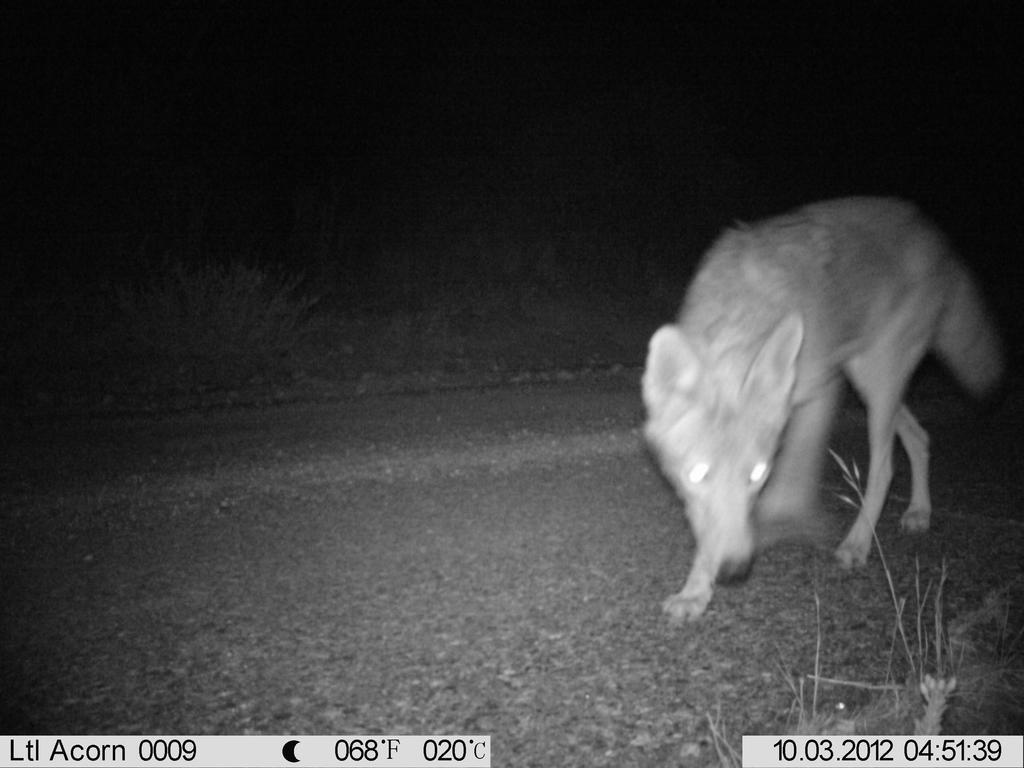coyote: (623, 183, 1014, 624)
